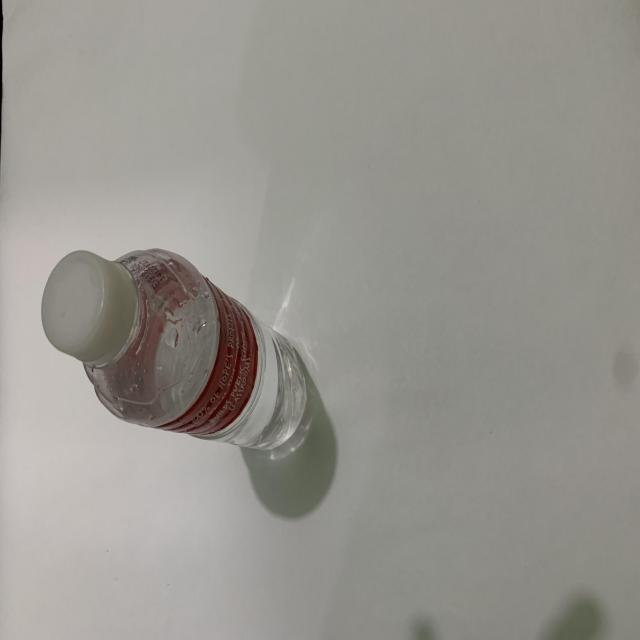bottle: (32, 227, 337, 508)
